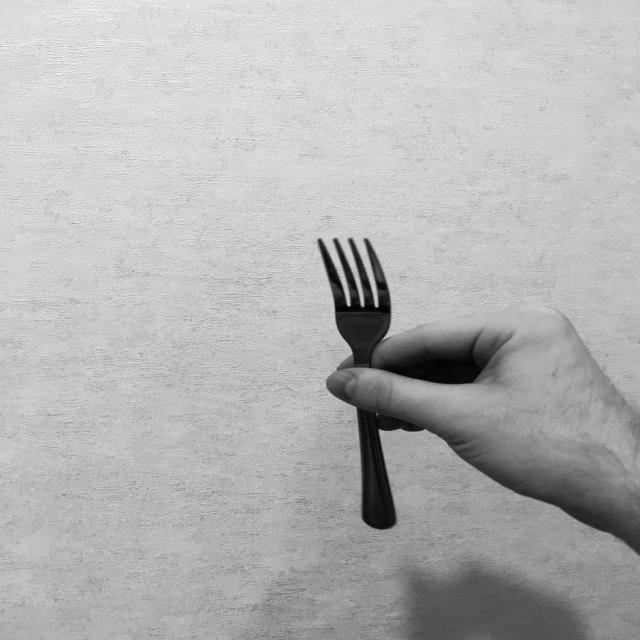fork: (316, 234, 396, 530)
